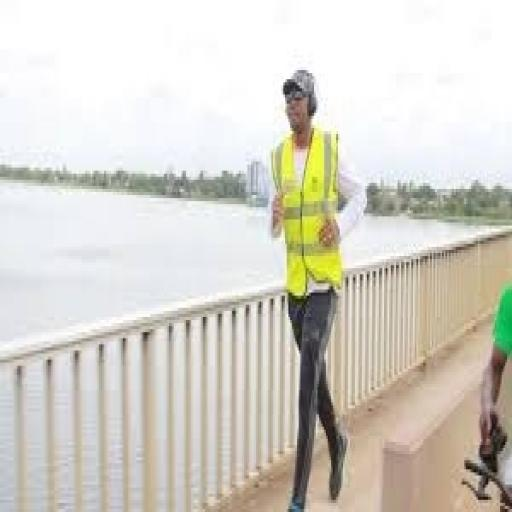running: (266, 64, 369, 509)
